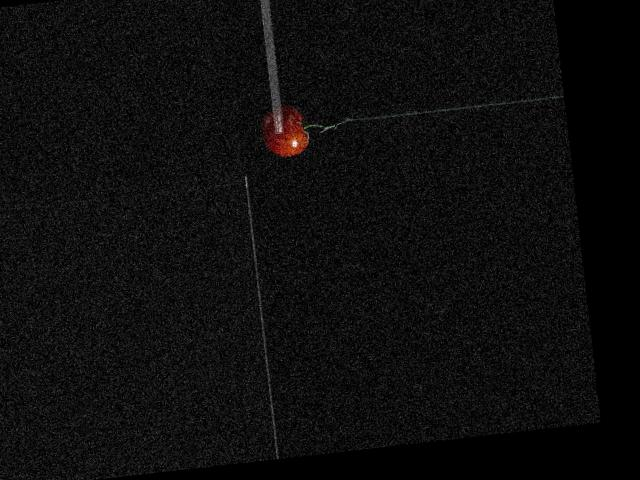tomato: (261, 104, 309, 158)
